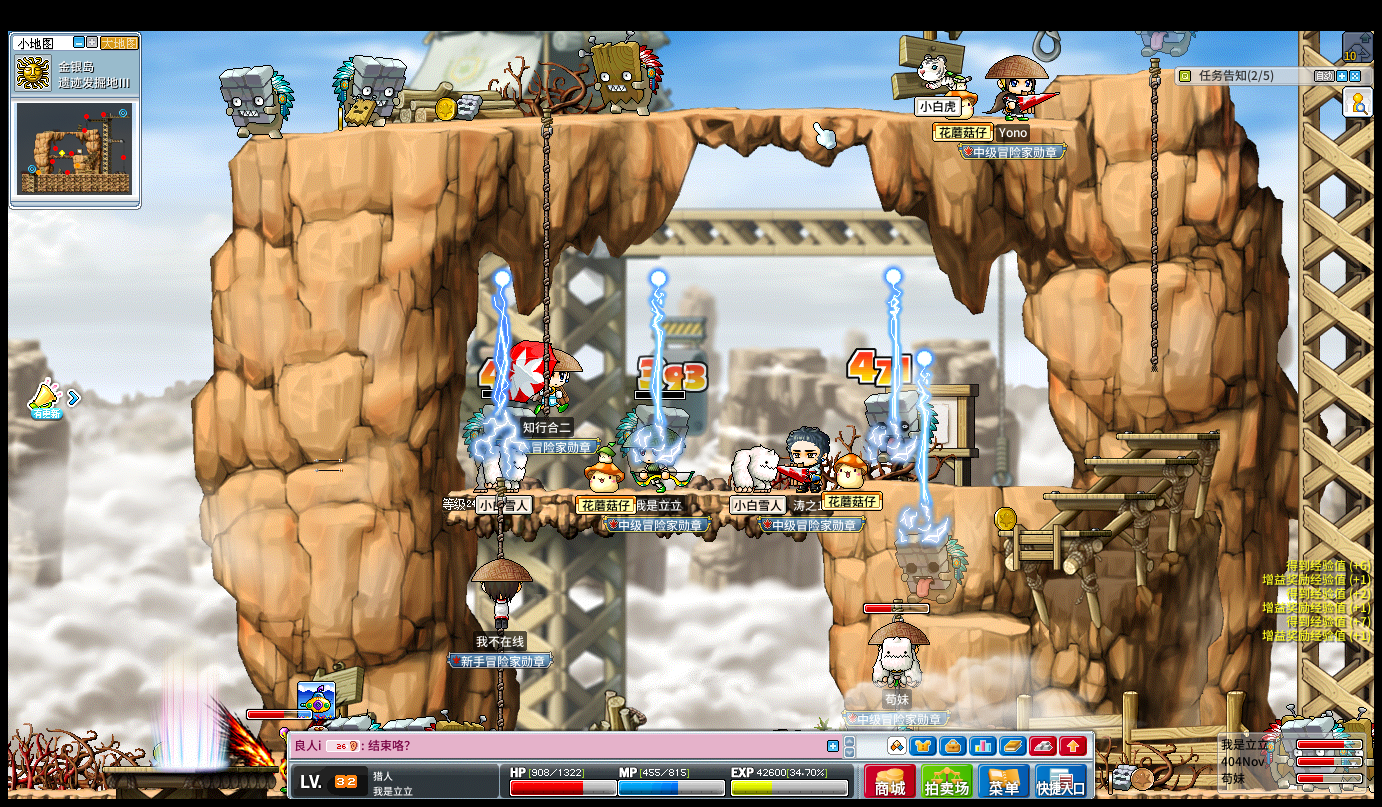floor: (231, 104, 1098, 139), (448, 487, 822, 498), (913, 612, 1028, 635), (873, 479, 1083, 490), (884, 481, 1080, 492), (1053, 69, 1164, 82), (1115, 429, 1221, 441), (1077, 456, 1196, 465), (1043, 492, 1156, 500), (998, 528, 1110, 536)
monster: (585, 30, 665, 116), (863, 390, 941, 473), (614, 403, 691, 481), (896, 533, 970, 614), (217, 63, 294, 139), (461, 404, 530, 488), (331, 53, 405, 129), (1261, 725, 1296, 790)
rope: (1147, 53, 1161, 376), (539, 107, 550, 468), (492, 497, 505, 559), (496, 667, 505, 725)
